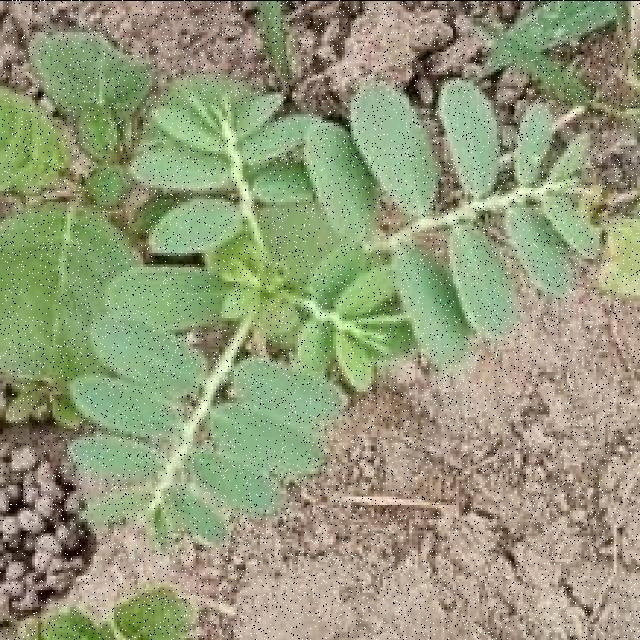plant: (0, 30, 601, 544)
